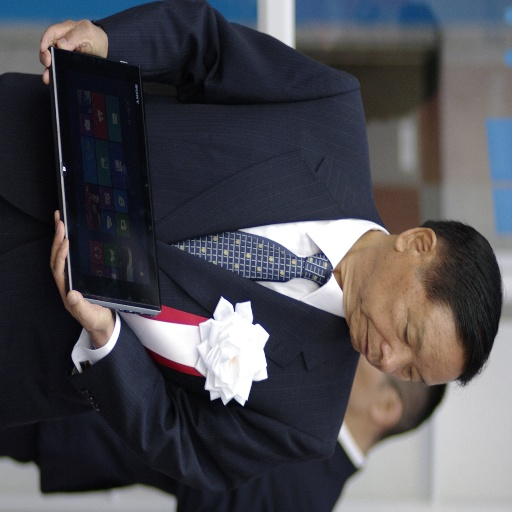hand: (50, 209, 112, 333), (39, 19, 105, 89)
